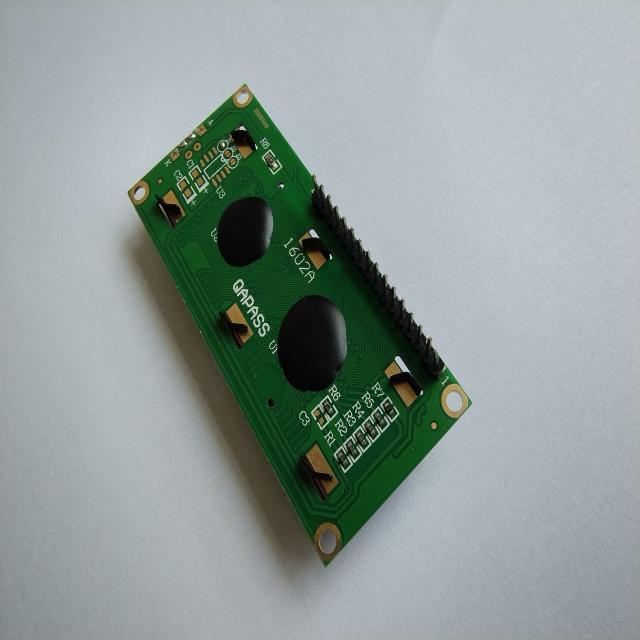lcd: (126, 81, 474, 568)
